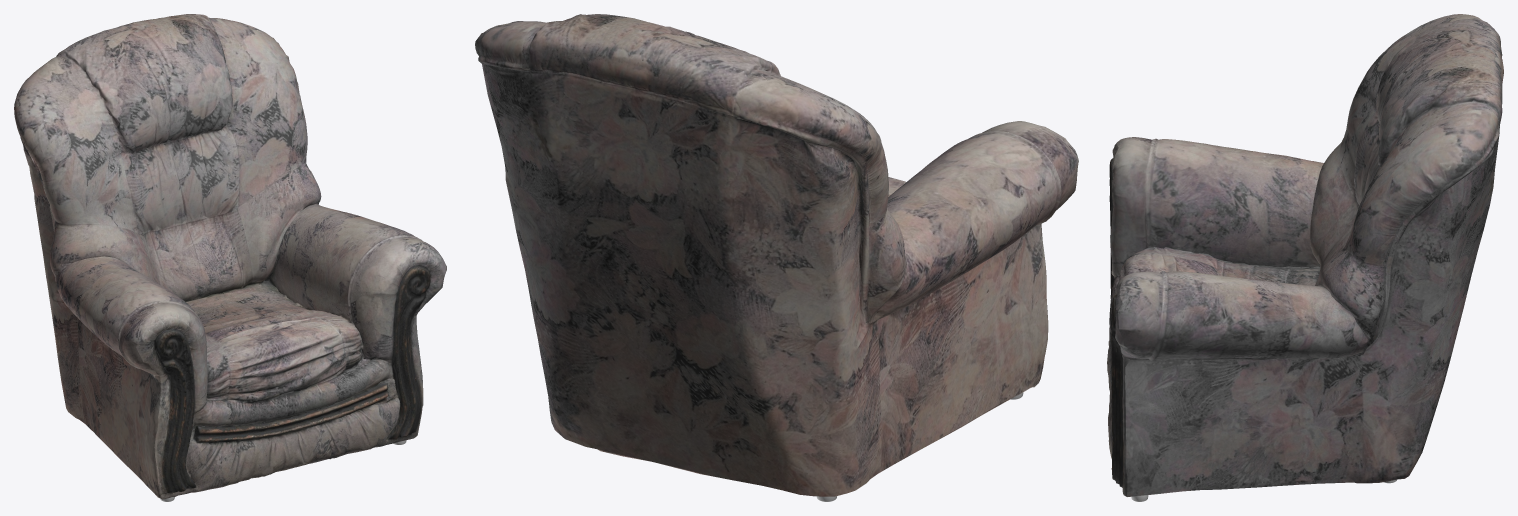
File: backrooms_movie_armchair.glb
3 views of the same model, side by side, from view 1: azimuth 30°, elevation 25°; view 2: azimuth 150°, elevation 25°; view 3: azimuth 270°, elevation 25° (orthographic). The views are drawn at different scales.
Parts seen in each view (by area): view 1: Old Armchair scan_0; view 2: Old Armchair scan_0; view 3: Old Armchair scan_0.
Boxes of the visible parts, left/top/right/bottom form: Old Armchair scan_0: left=14, top=14, right=446, bottom=501; Old Armchair scan_0: left=475, top=14, right=1078, bottom=501; Old Armchair scan_0: left=1107, top=14, right=1503, bottom=501.
Size of the model in its own units: 1.46 by 1.49 by 1.39.
2 materials, 1 textured.
